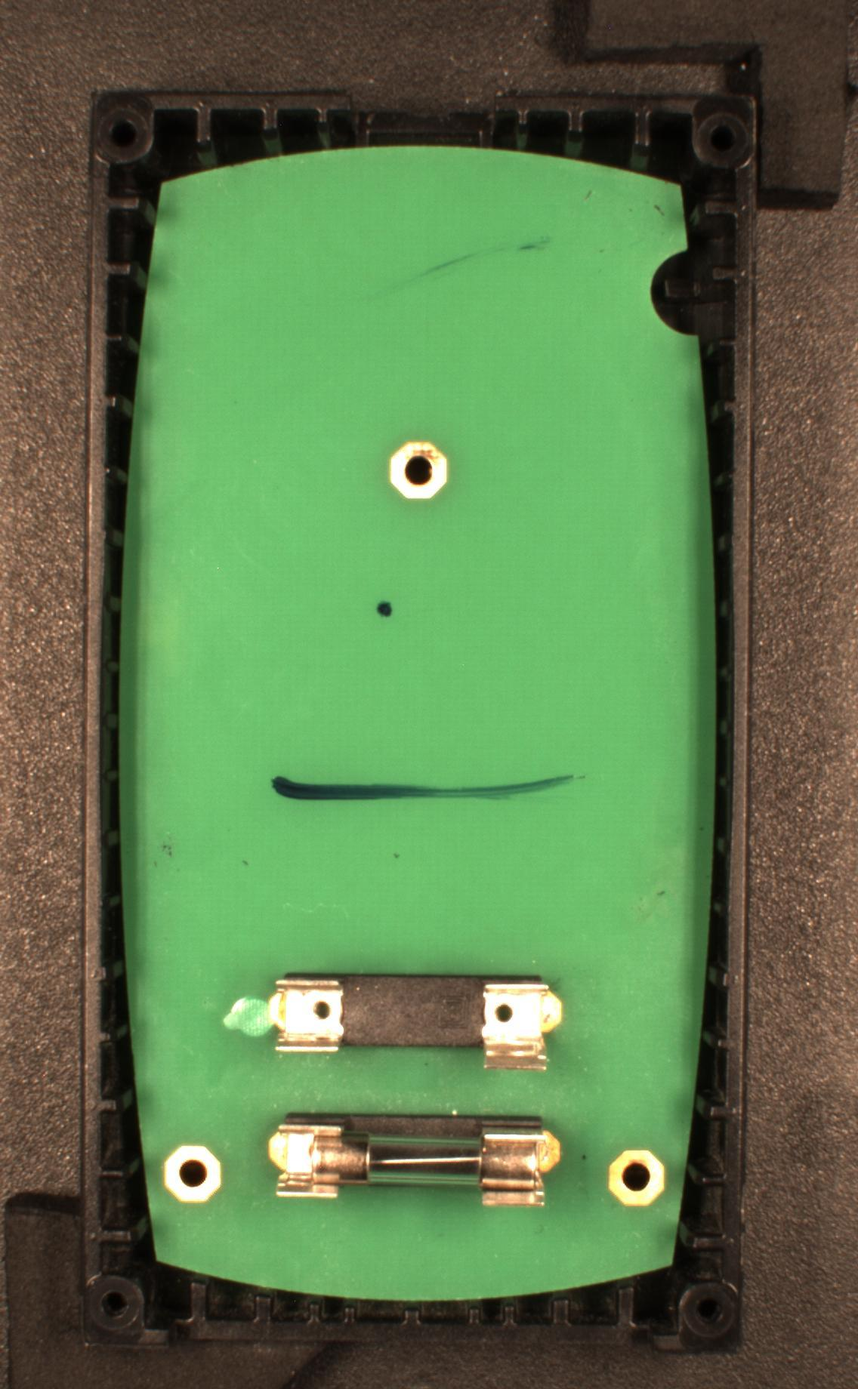Linijsko Ostecene: (271, 773, 590, 805)
Nepostojanje osiguraca: (266, 973, 562, 1071)
Tockasto Ostecenje: (375, 596, 394, 621)
